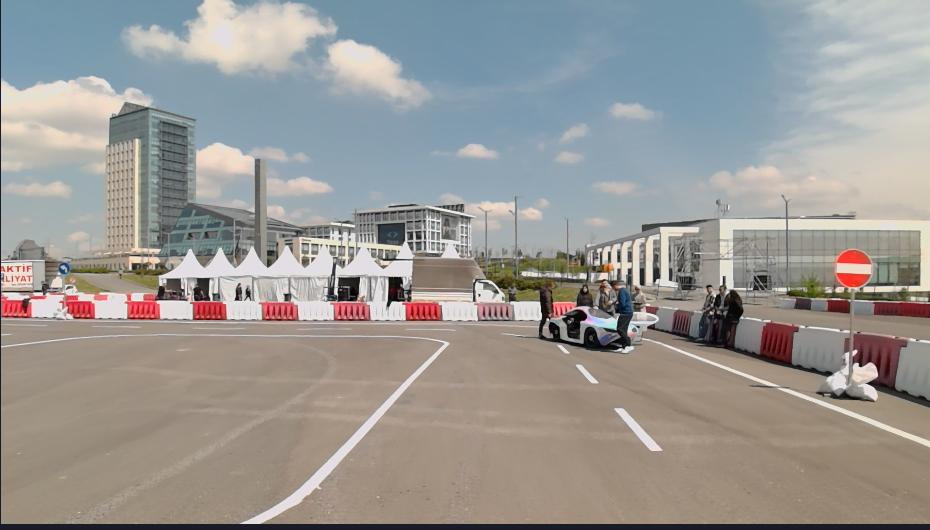nesne: (76, 319, 930, 528), (243, 325, 720, 523), (2, 330, 450, 524), (551, 332, 929, 527), (642, 336, 928, 449), (0, 295, 541, 319), (74, 318, 534, 329), (547, 307, 657, 352), (413, 253, 505, 300), (816, 348, 880, 401), (854, 330, 905, 390), (788, 325, 845, 372), (609, 277, 636, 355), (613, 408, 662, 450), (0, 258, 62, 290), (896, 340, 929, 400), (719, 282, 745, 347), (833, 249, 873, 289), (758, 320, 794, 363), (850, 300, 929, 318), (705, 282, 727, 344), (535, 278, 558, 337), (776, 295, 849, 313), (735, 316, 765, 354), (874, 300, 929, 319), (698, 281, 715, 341), (594, 277, 618, 316), (472, 300, 514, 321), (403, 300, 446, 320), (440, 300, 478, 322), (29, 296, 67, 317), (331, 300, 369, 320), (260, 299, 297, 319), (297, 301, 334, 321), (189, 300, 226, 319), (226, 299, 261, 319), (369, 301, 405, 320), (95, 297, 128, 317), (160, 299, 194, 318), (0, 296, 30, 317), (571, 280, 596, 305), (672, 308, 695, 335), (652, 307, 675, 332), (66, 298, 95, 317), (512, 300, 541, 319), (630, 284, 647, 313), (687, 308, 700, 339), (577, 364, 598, 382), (827, 298, 850, 313), (852, 300, 874, 314), (52, 305, 71, 320), (777, 297, 798, 310), (807, 297, 828, 310), (793, 298, 811, 310), (38, 277, 49, 296), (233, 279, 244, 296), (56, 260, 68, 275), (506, 279, 516, 297), (500, 331, 524, 337), (555, 344, 570, 353), (19, 295, 28, 308)
